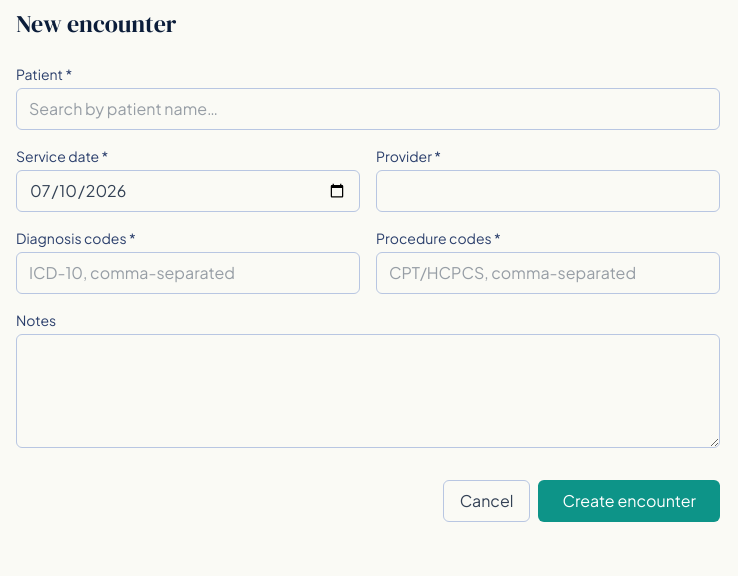
Test: NewEncounterForm › blocks submit when no patient is selected and shows an error
// Fill the other required fields but skip patient selection.
Type "Dr. Strange" into the field labelled "Provider *" at (548, 191), box [376,170,720,212]
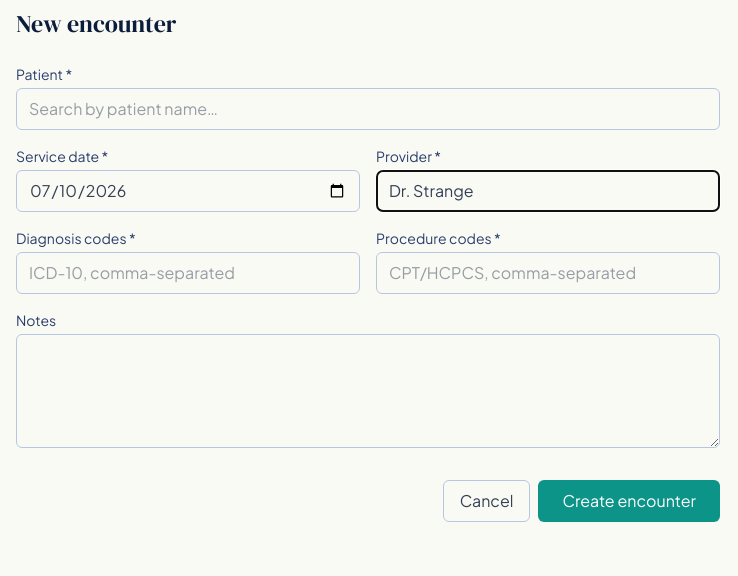
Type "A1.2" into the field labelled "Diagnosis codes *" at (188, 273), box [16,252,360,294]
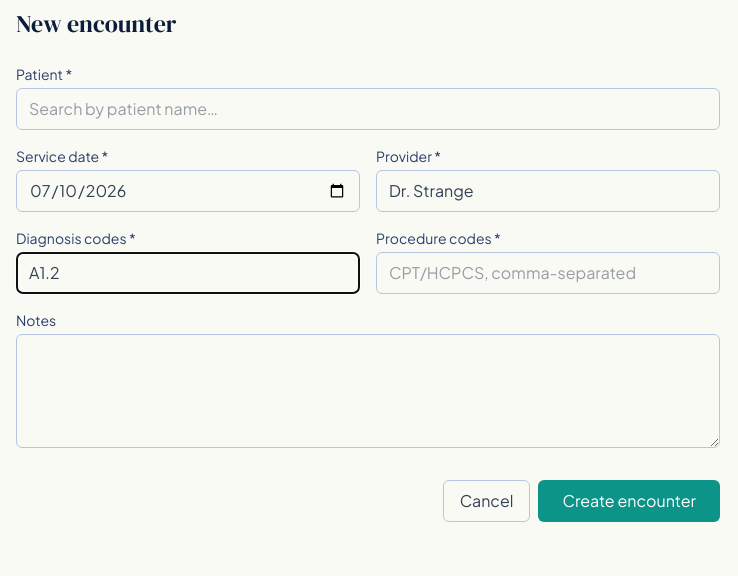
Type "99213" into the field labelled "Procedure codes *" at (548, 273), box [376,252,720,294]
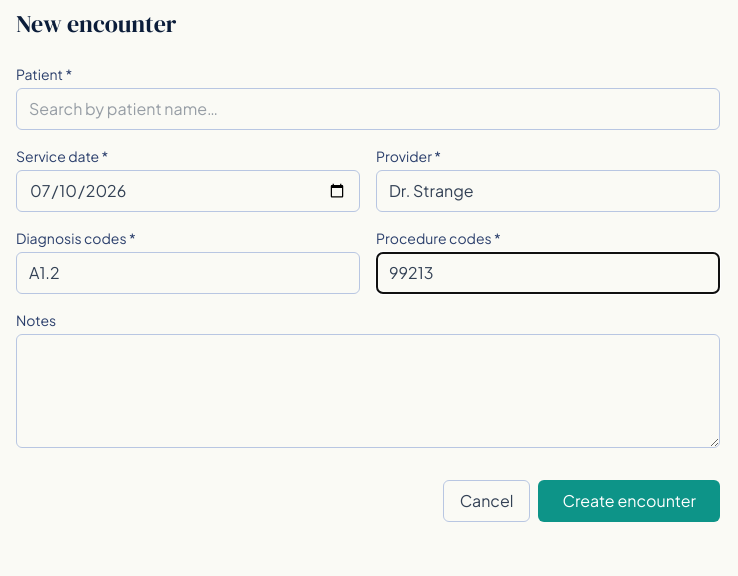
Click the button "Create encounter" at (629, 501), box [538,480,720,522]
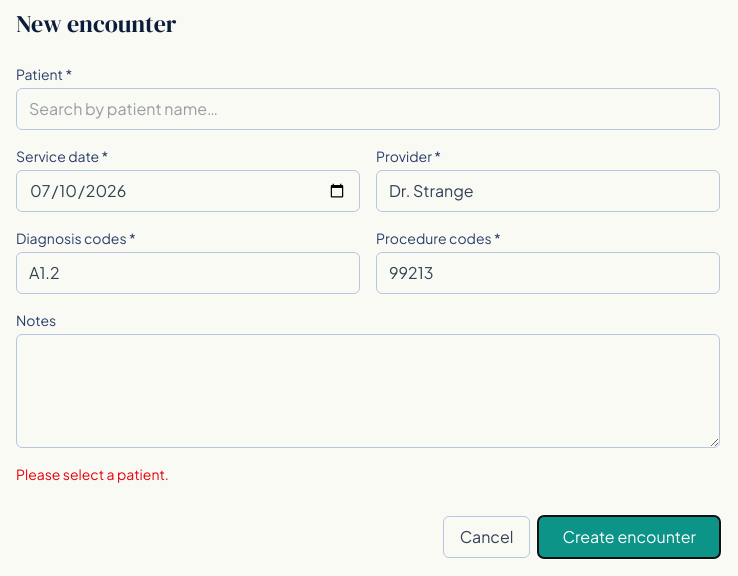
Check: the message shows "Please select a patient", box [16,465,169,483]
